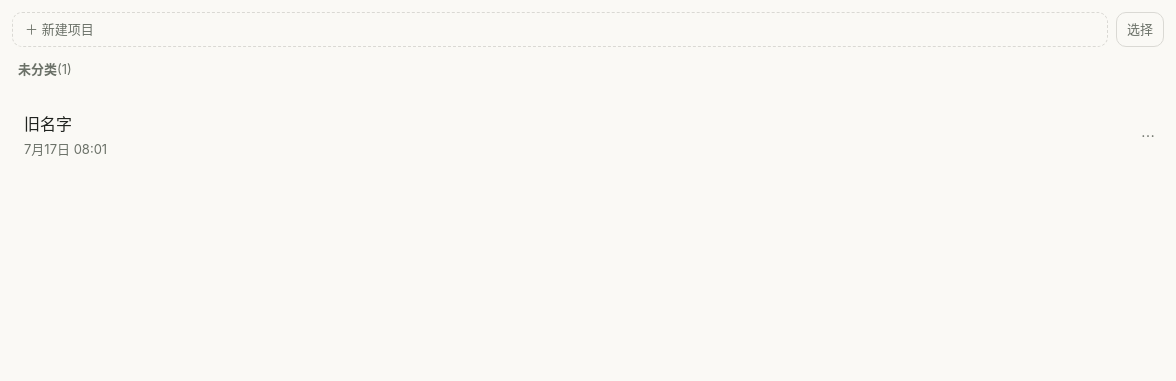
Test: SessionListPanel 会话分组树 › 会话菜单：重命名 inline 提交并广播
This screenshot has width=1176, height=381.
Click the button named "旧名字 的菜单": (1148,136) [1136,124,1160,148]
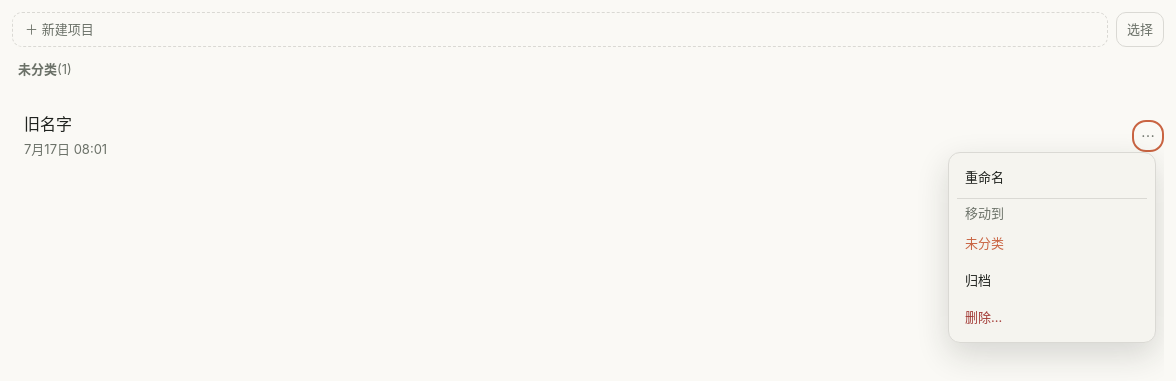
Click the menu item "重命名": (1052,177) [957,161,1147,194]
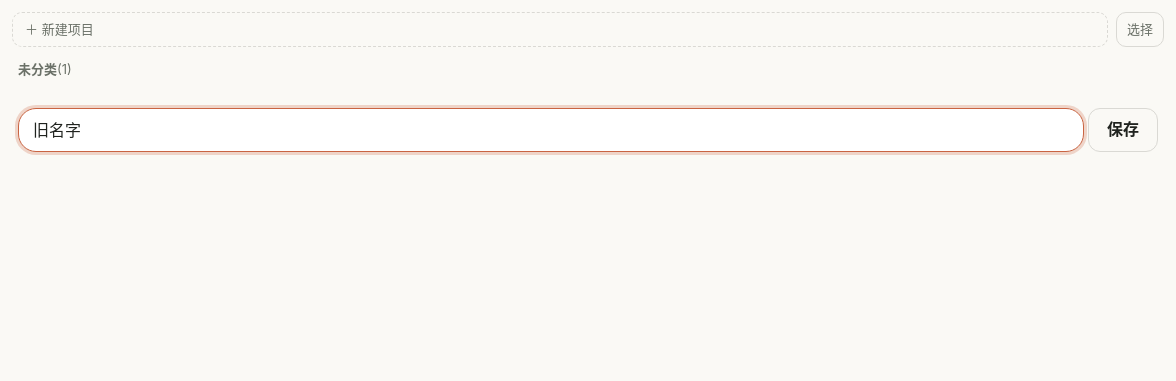
Replace the text in the field named "重命名" with "新名字": (551,130) [18,108,1084,152]
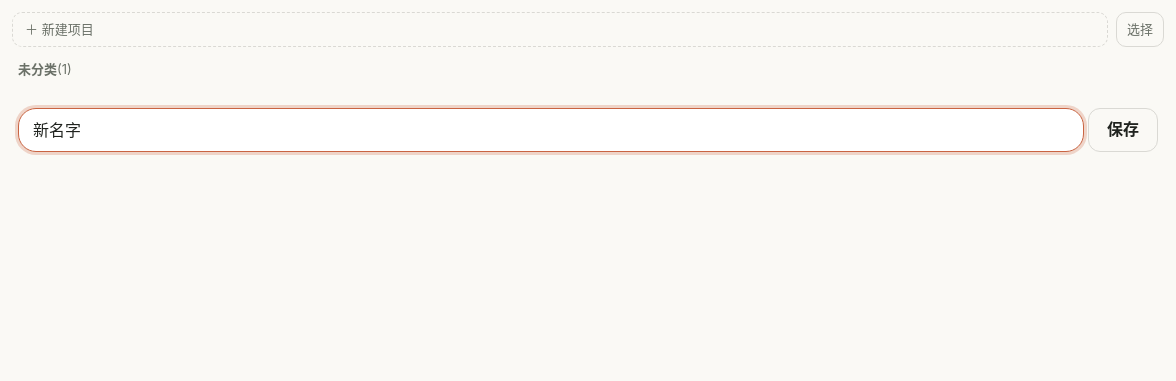
Click the button "保存": (1123,130) [1088,108,1158,152]
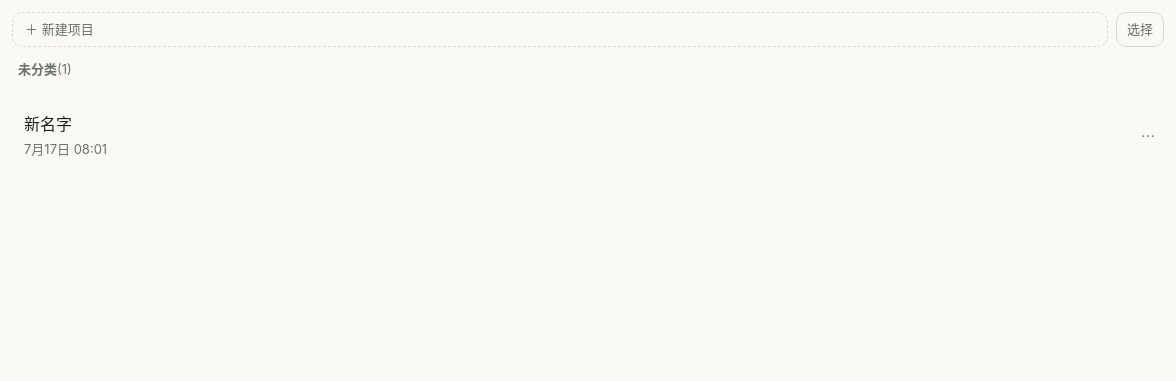
Now the link "新名字" is shown, box [24,114,107,157]
